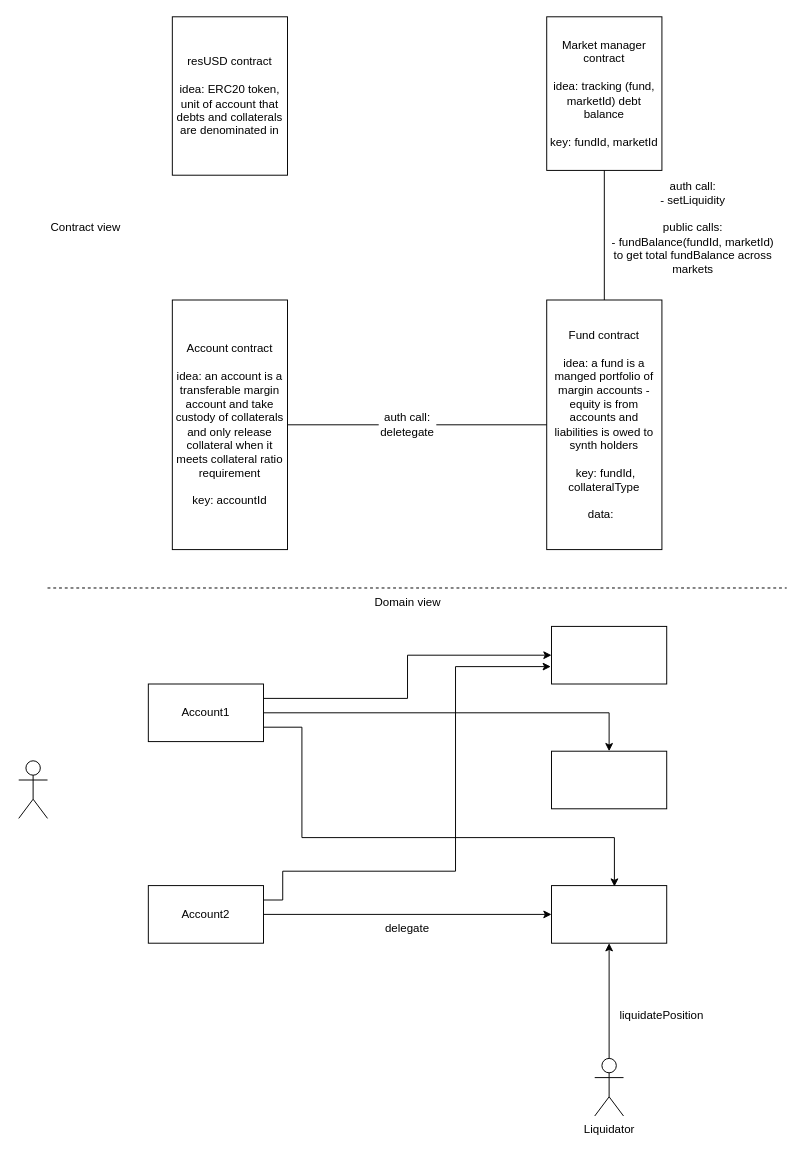
The diagram is 804 pixels wide and 1153 high, and some of its shapes have lost their labels. Each missing label, with the box of its shape:
Fund1: (551, 625, 667, 684)
Fund2: (551, 750, 667, 809)
Fund3: (551, 885, 667, 943)
Staker: (18, 760, 48, 818)
